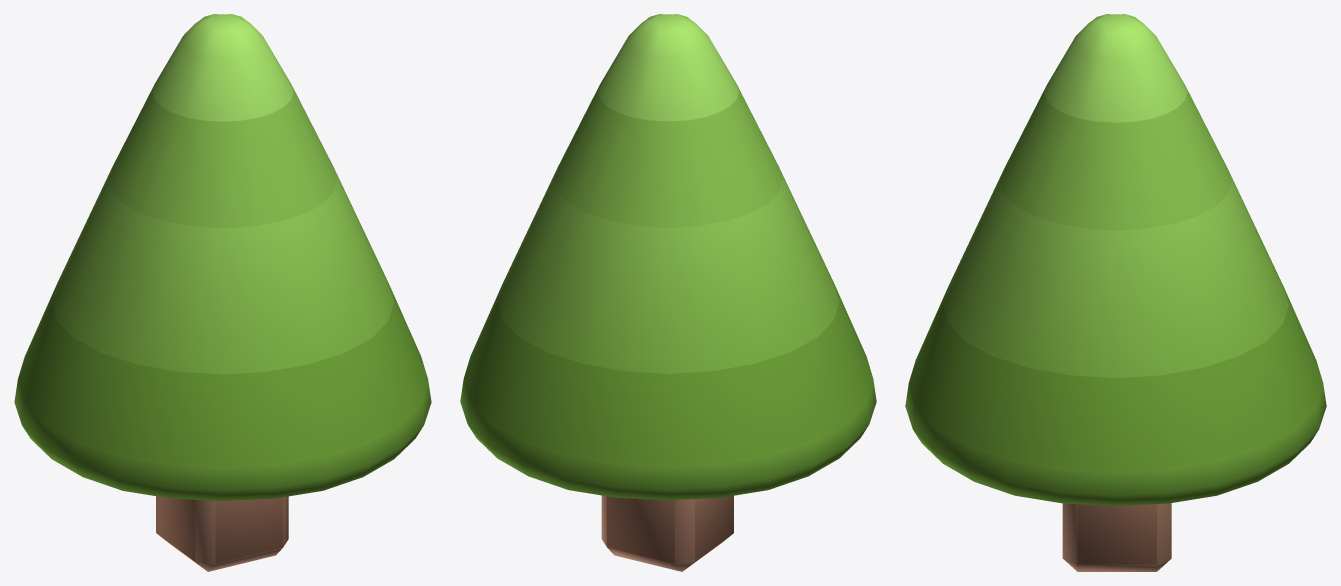
The model's file is tree_2.fbx.
3 views of the same model, side by side, from view 1: azimuth 30°, elevation 25°; view 2: azimuth 150°, elevation 25°; view 3: azimuth 270°, elevation 25° (orthographic).
Parts seen in each view (by area): view 1: tree_2; view 2: tree_2; view 3: tree_2.
Boxes of the visible parts, bbox=[...] form: tree_2: bbox=[14, 14, 431, 571]; tree_2: bbox=[460, 14, 876, 571]; tree_2: bbox=[905, 14, 1326, 571].
Size of the model in its own units: 113 by 159 by 113.
